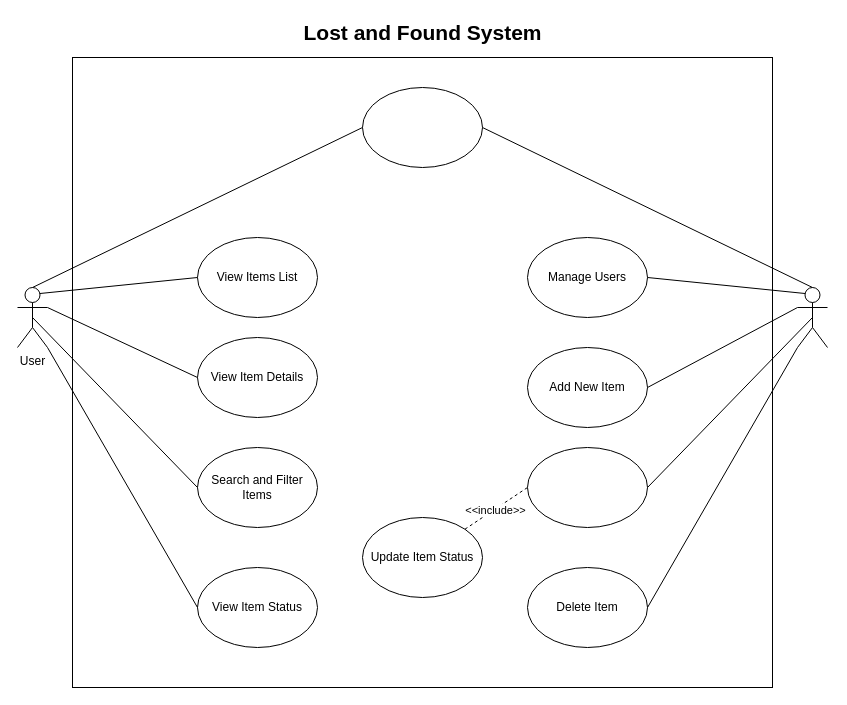
Image size: 847x705. Some labels were removed from this diagram. The centre of each missing label's shape, as x and y in pixels:
Admin: the point at 812,317
Edit Item Details: the point at 587,487
Login / Autheticate: the point at 422,127
